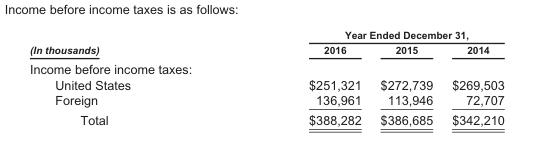table: (28, 28, 503, 126)
table column: (28, 28, 219, 126), (219, 28, 370, 126), (370, 28, 441, 126), (441, 28, 503, 126)
table column header: (28, 28, 503, 58)
table projected row header: (28, 58, 503, 76)
table row: (28, 58, 503, 76), (28, 91, 503, 109), (28, 41, 503, 58), (28, 109, 503, 126), (28, 76, 503, 91), (28, 28, 503, 41)
table spanning cell: (28, 28, 219, 58), (219, 28, 503, 41)
